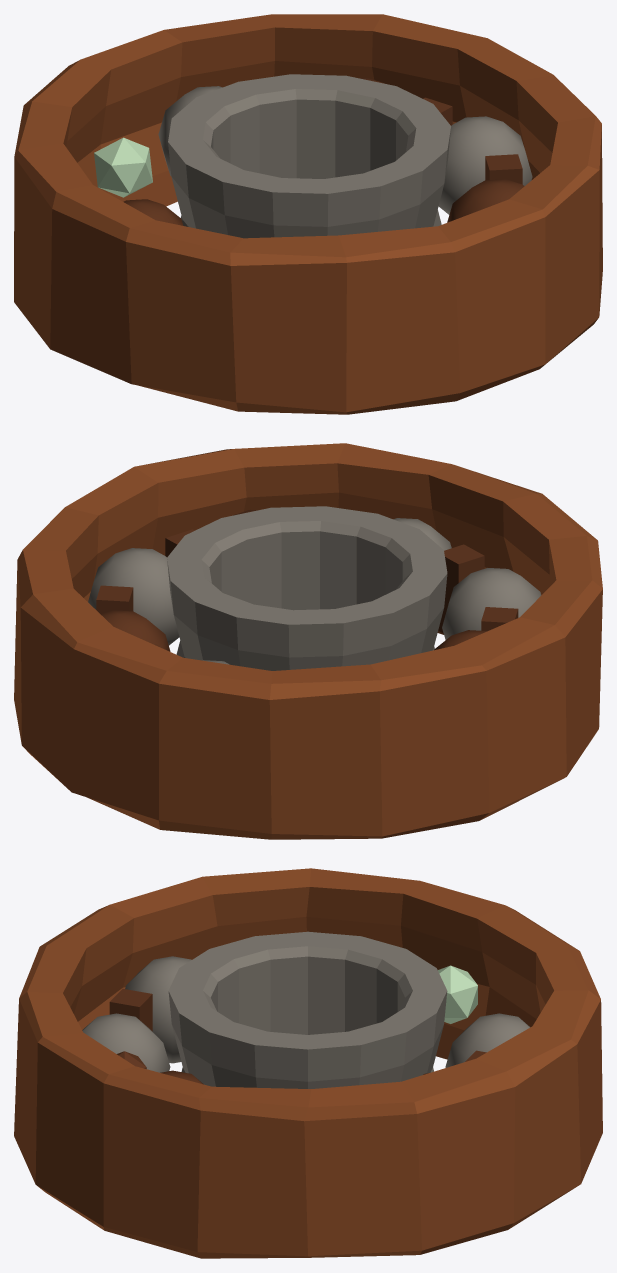
File: bearing_scrap.glb
3 views of the same model, one above another, from view 1: azimuth 30°, elevation 25°; view 2: azimuth 150°, elevation 25°; view 3: azimuth 270°, elevation 25° (orthographic). The views are drawn at different scales.
Parts seen in each view (by area): view 1: bearing_scrap; view 2: bearing_scrap; view 3: bearing_scrap.
Part boxes in pixels (bbox=[...]): bearing_scrap: bbox=[14, 14, 602, 414]; bearing_scrap: bbox=[14, 443, 602, 839]; bearing_scrap: bbox=[14, 868, 602, 1258].
Size of the model in its own units: 0.0901 by 0.0271 by 0.0908.
